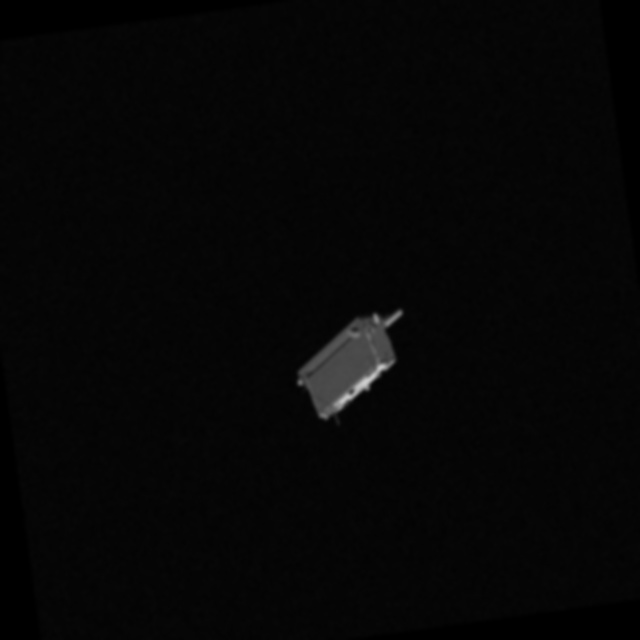satellite: (280, 306, 421, 428)
